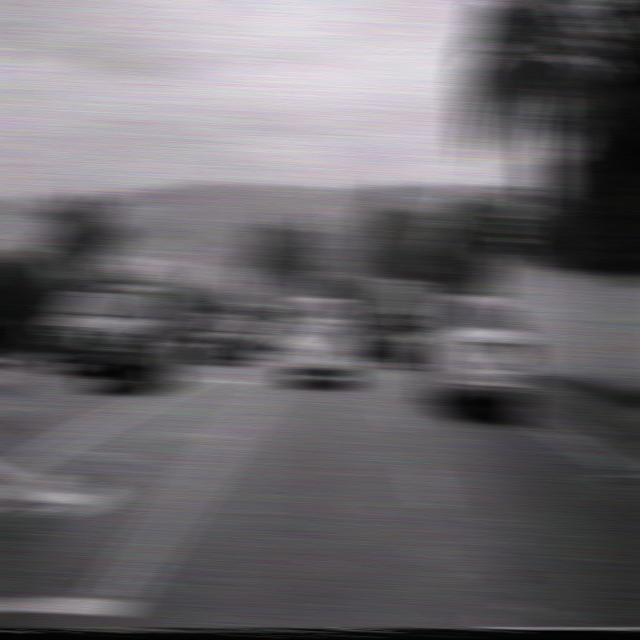speedLimit35: (491, 184, 534, 245)
